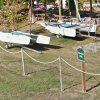Boat: (39, 14, 91, 42)
